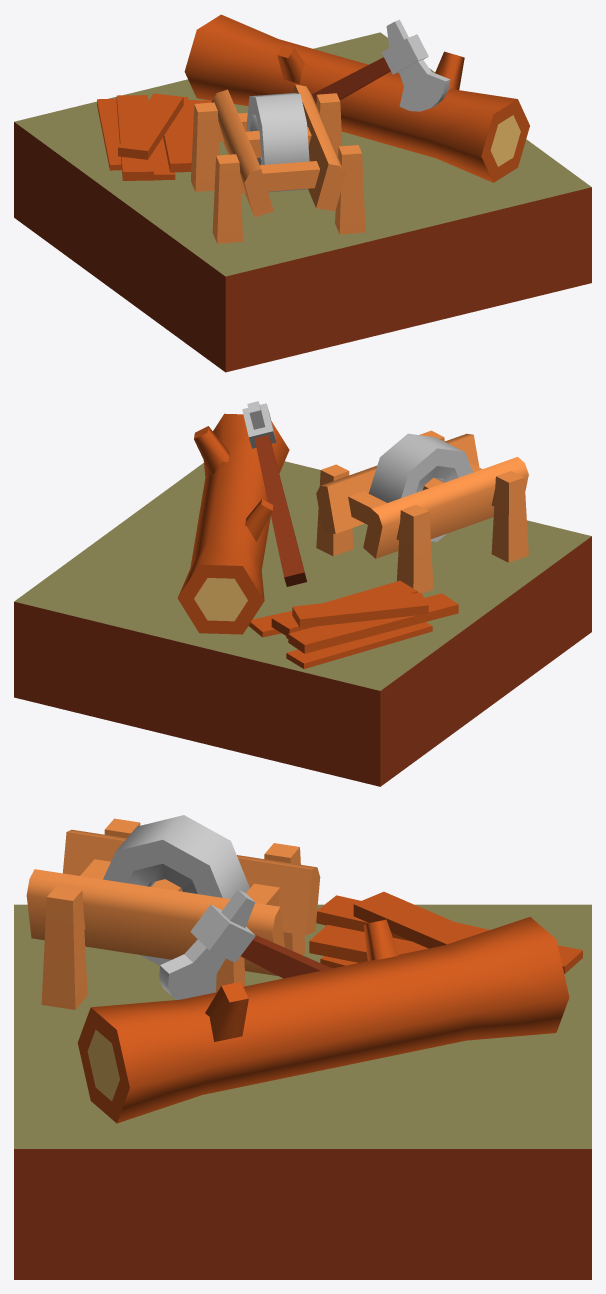
File: aserradero.fbx
The picture shows the model from 3 angles, top to bottom: view 1: azimuth 30°, elevation 25°; view 2: azimuth 150°, elevation 25°; view 3: azimuth 270°, elevation 25°; orthographic projection. The views are drawn at different scales.
Visible parts, largest first — view 1: aserradero; view 2: aserradero; view 3: aserradero.
Part boxes in pixels (box(x1,y1,x2,y2)): aserradero: box(14, 14, 591, 372); aserradero: box(14, 401, 591, 786); aserradero: box(14, 815, 591, 1279).
Size of the model in its own units: 200 by 120 by 200.
